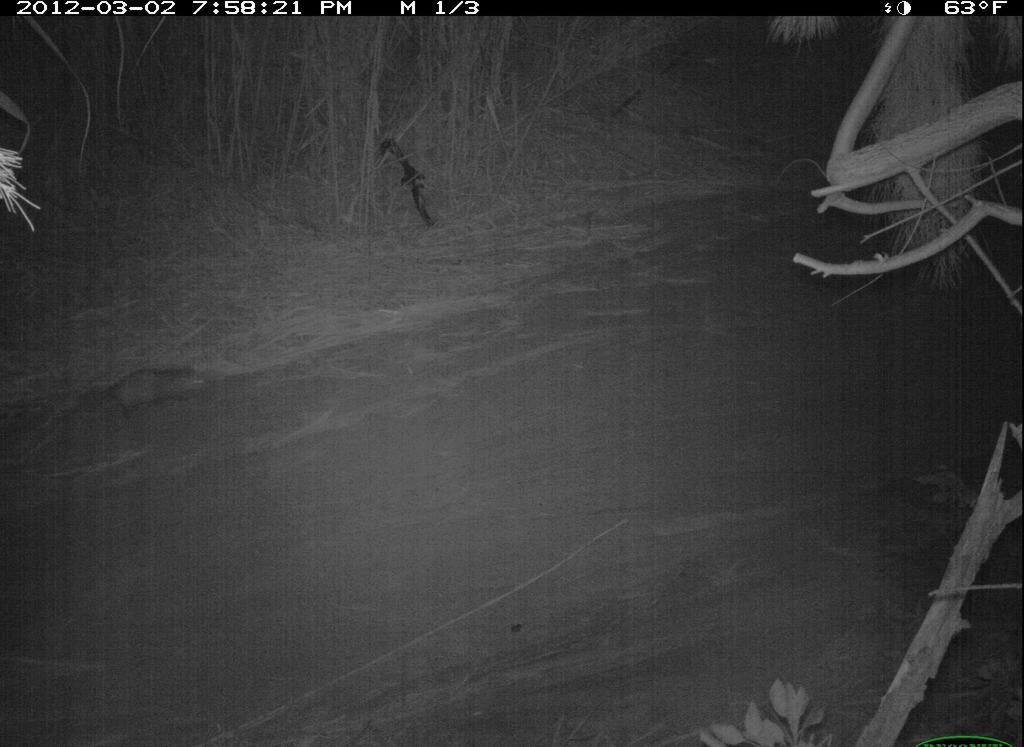opossum: (68, 347, 218, 437)
